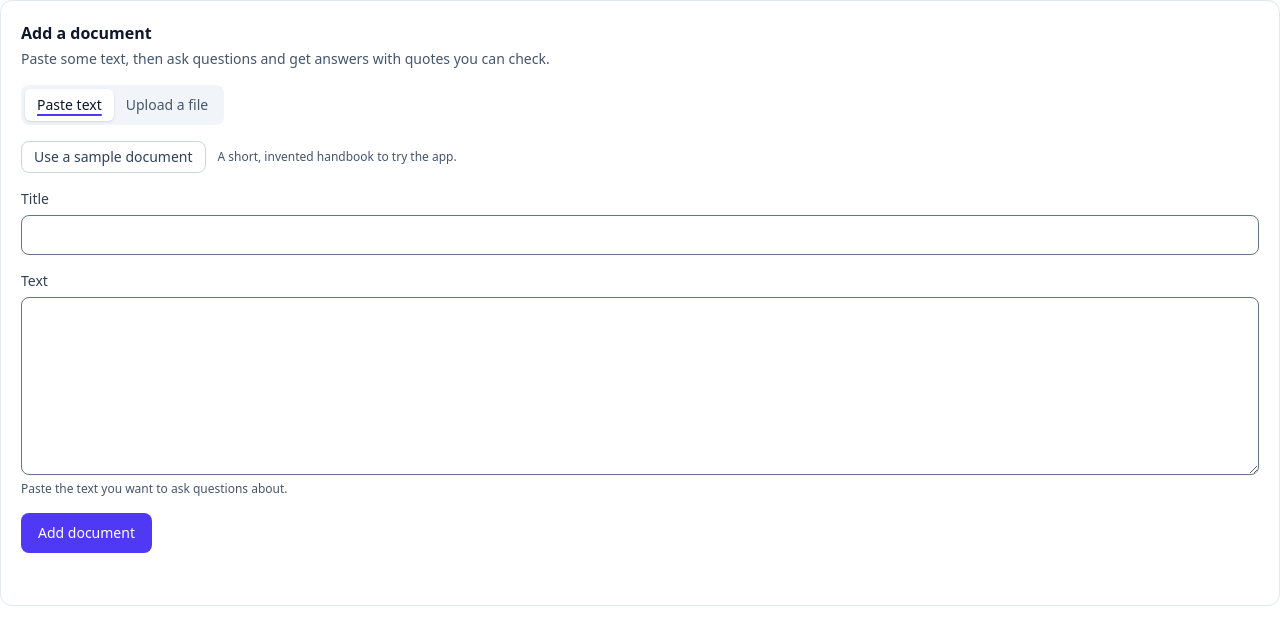
Test: NewDocumentForm: file upload › tells the person the limits up front
Click the tab "Upload a file".
click(167, 105)  # box [114, 89, 220, 121]
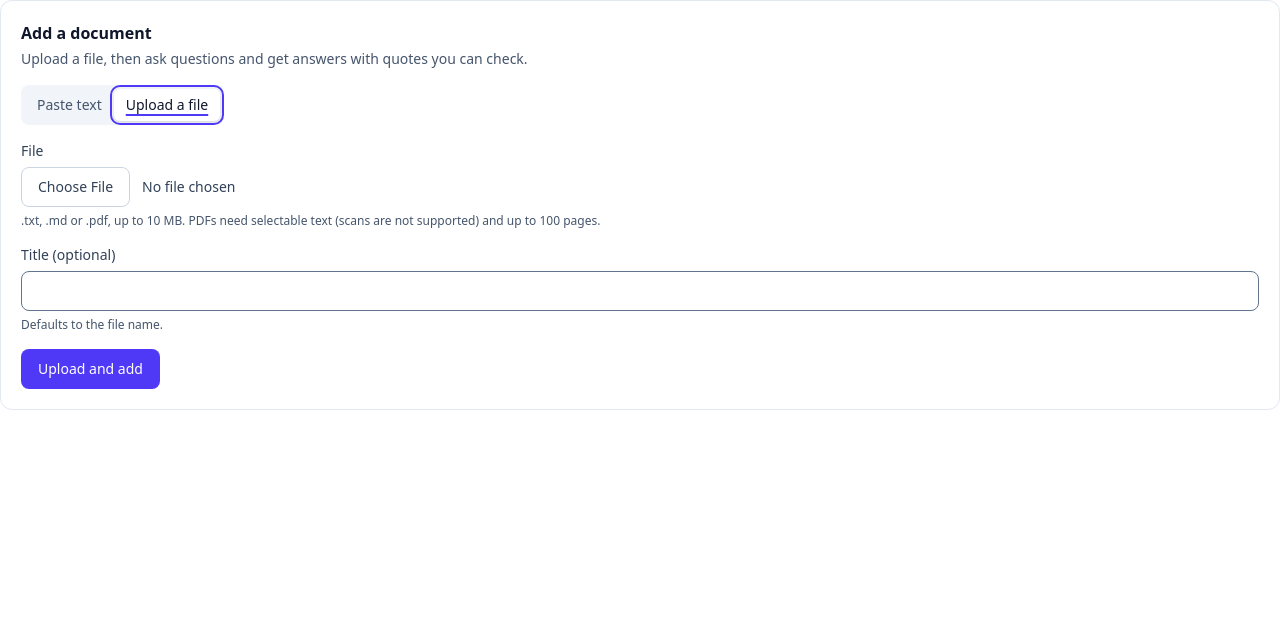
Now the text ".txt, .md or .pdf, up to 10 MB" is shown, box [21, 212, 600, 229]
Now the text "scans are not supported" is shown, box [160, 212, 539, 229]
